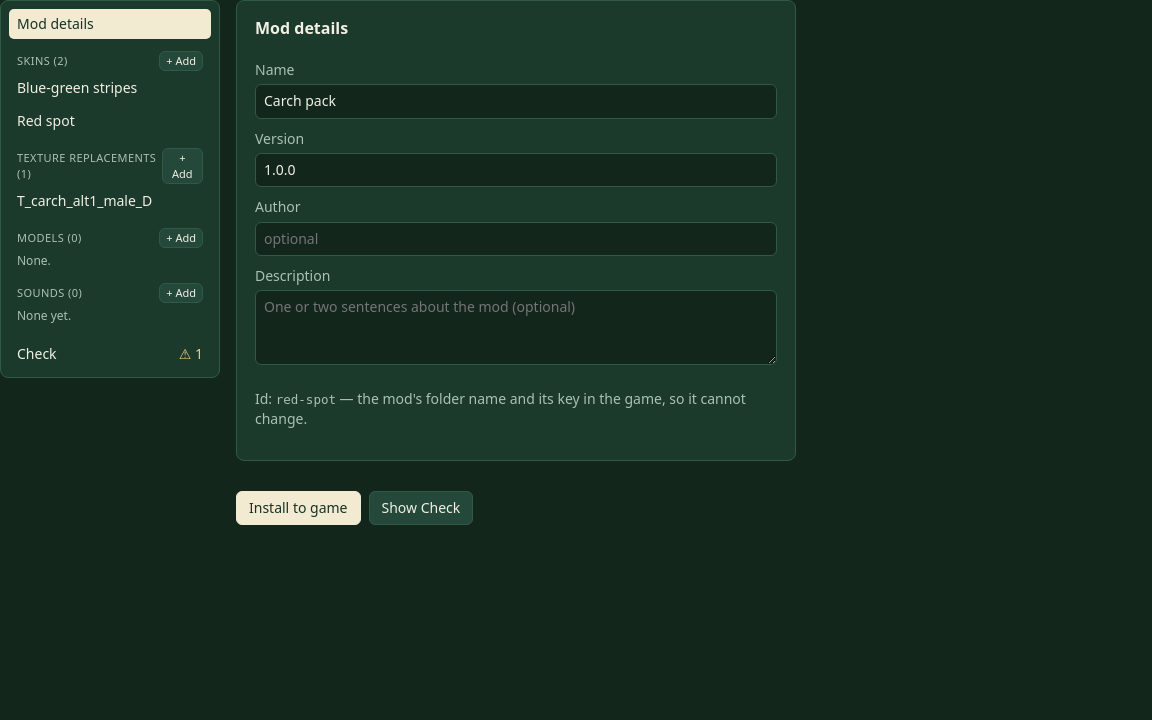
ModEditor › Models and Sounds each have + Add, which opens its form
Click the button with aria-label "Add a model" at (181, 238), box [159,228,203,248]
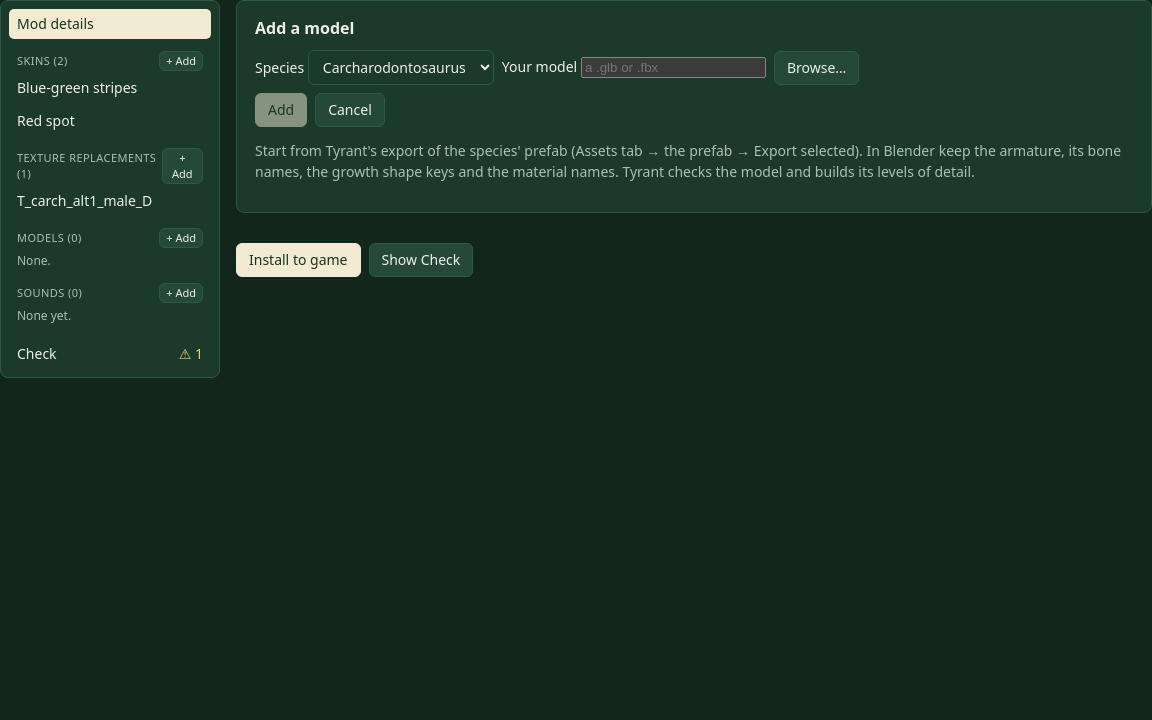
Expected: the heading "Add a model" is shown, [255,17,354,39]
Click the button with aria-label "Add a sound" at (181, 293), box [159,283,203,303]
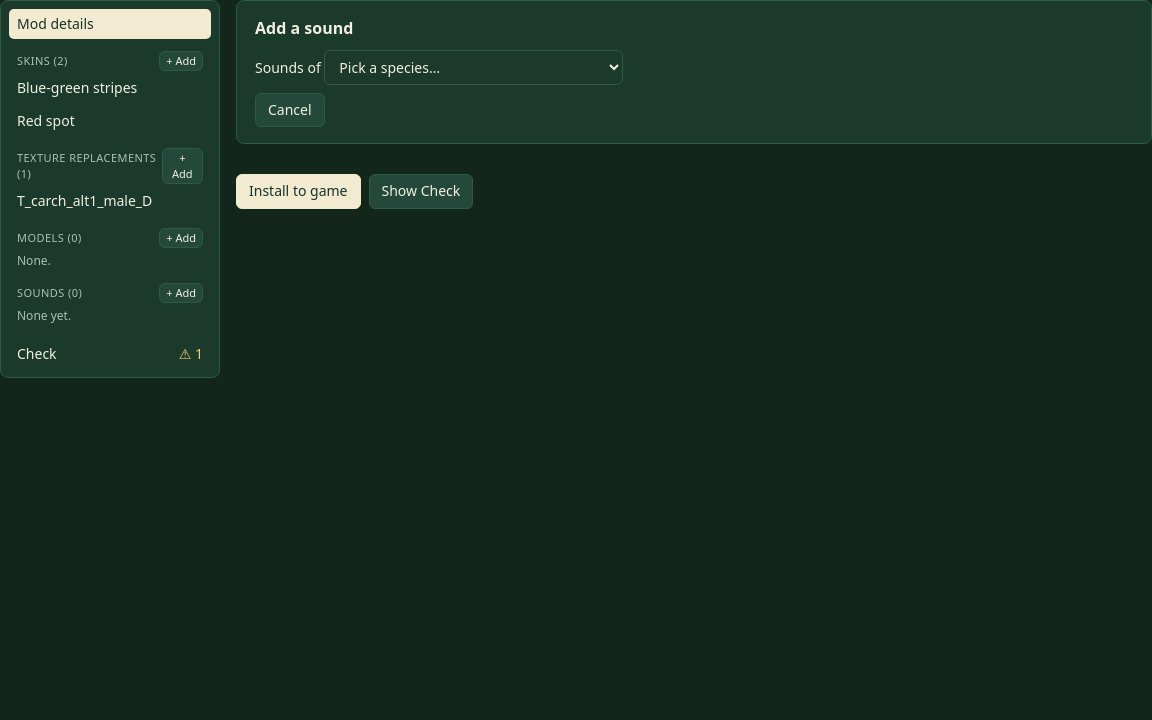
Expected: the heading "Add a sound" is shown, [255,17,353,39]
Expected: the heading "Add a model" is gone
